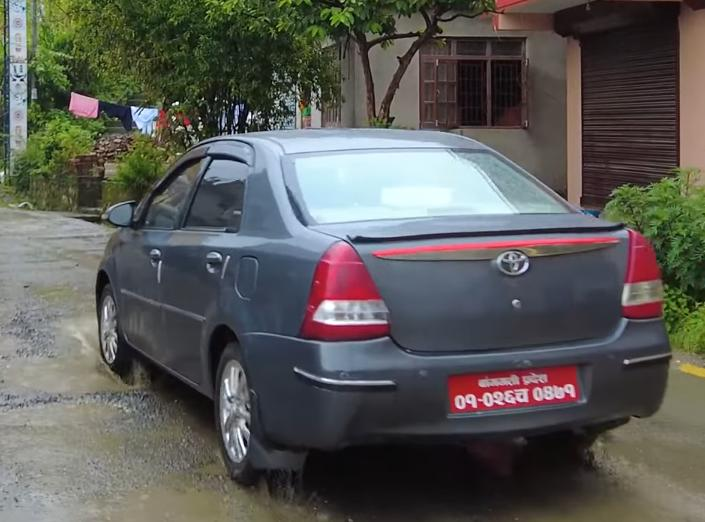car: (87, 126, 676, 469)
